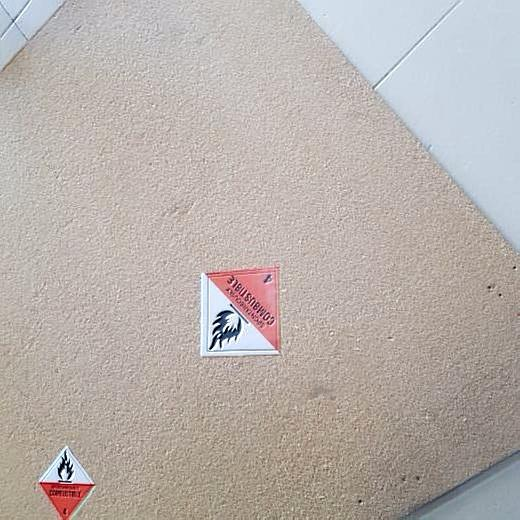spontaneously-combustible: (199, 269, 282, 357), (38, 445, 96, 520)
